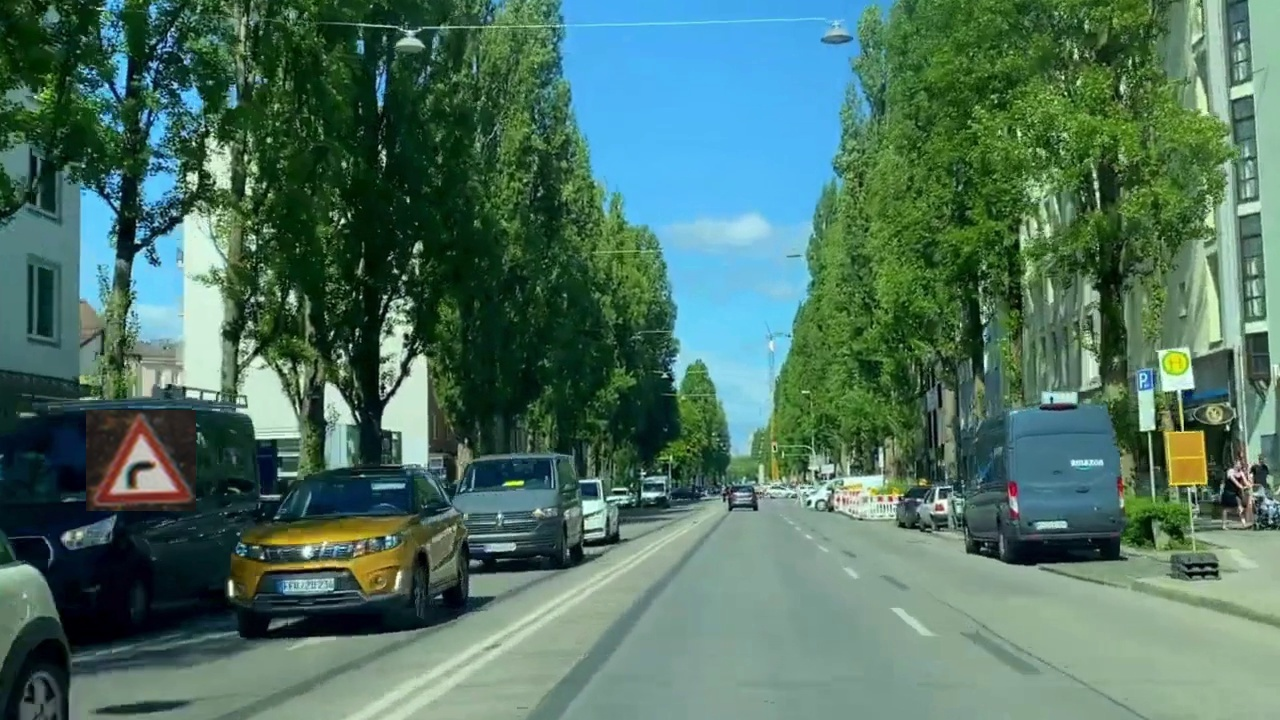Curve right: (86, 410, 196, 511)
